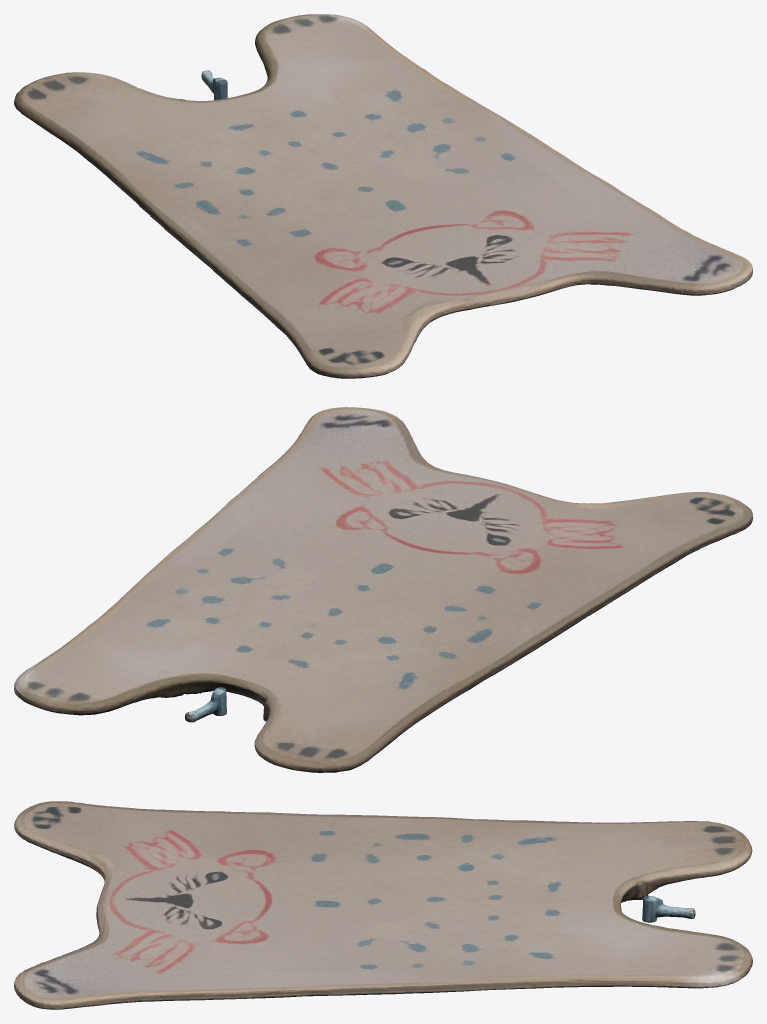
The model's file is b0eeab85-4539-4fe7-b9d5-cfebe27c22c8.glb.
3 renders of one model, top to bottom at view 1: azimuth 30°, elevation 25°; view 2: azimuth 150°, elevation 25°; view 3: azimuth 270°, elevation 25°, orthographic. The views are drawn at different scales.
Parts seen in each view (by area): view 1: world; view 2: world; view 3: world.
Boxes of the visible parts, x1=… form: world: x1=14, y1=14, x2=752, y2=378; world: x1=14, y1=407, x2=752, y2=772; world: x1=14, y1=801, x2=752, y2=1009.
Bounding box in the file's own units: 0.6499 × 0.0351 × 0.9973.
1 material, 1 textured.
